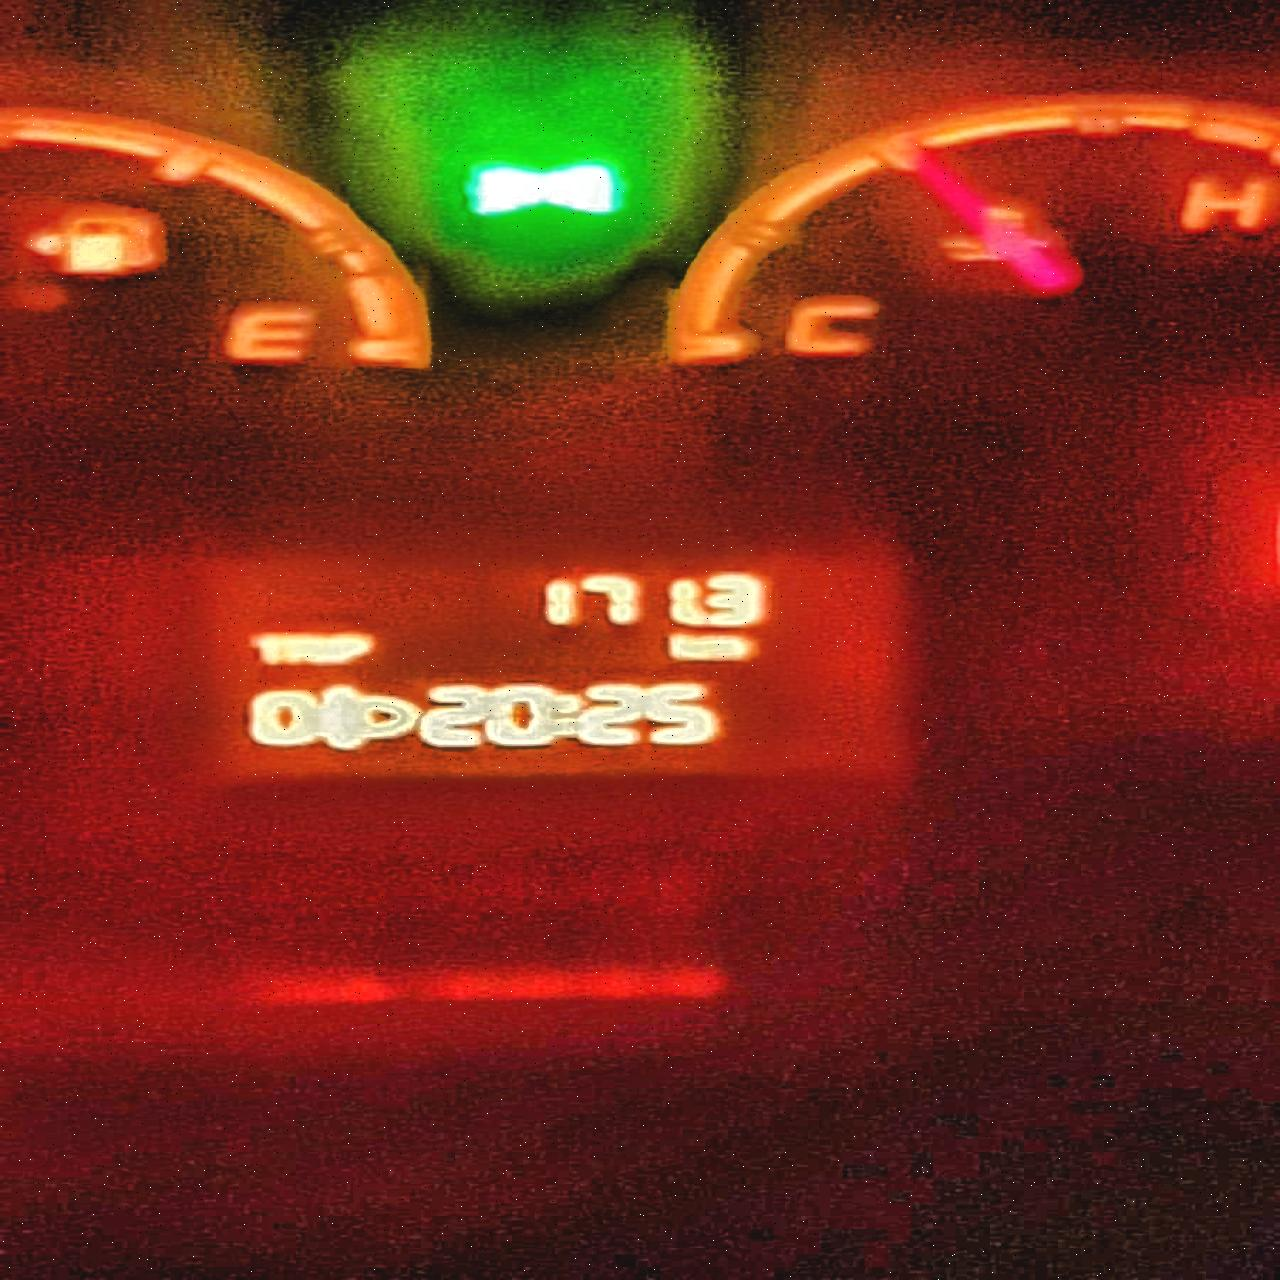0: (245, 688, 321, 748), (485, 682, 556, 747)
1: (666, 576, 701, 625), (540, 578, 576, 626)
2: (414, 683, 486, 749), (576, 682, 644, 745)
3: (703, 572, 765, 626)
5: (642, 680, 720, 745)
7: (577, 572, 642, 626)
X: (706, 632, 763, 665), (335, 631, 379, 666), (667, 628, 706, 666), (246, 631, 282, 666), (282, 631, 316, 667), (554, 692, 580, 738), (316, 629, 334, 669)
odometer: (189, 545, 921, 790)
